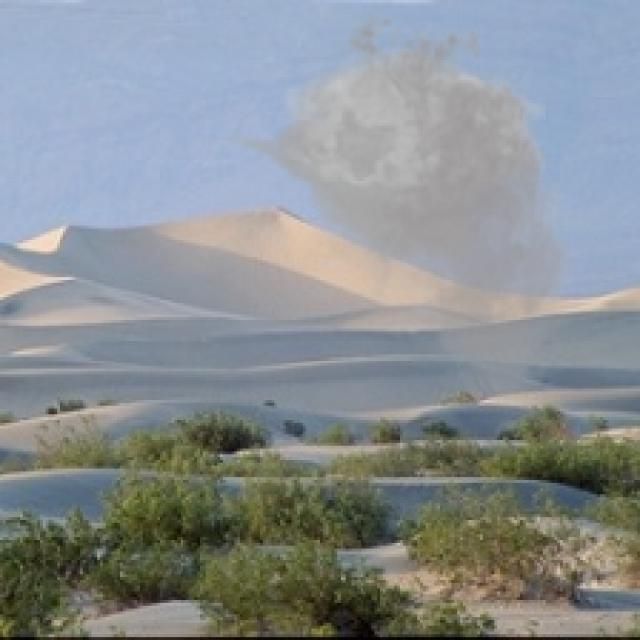Smoke: (223, 0, 587, 412)
